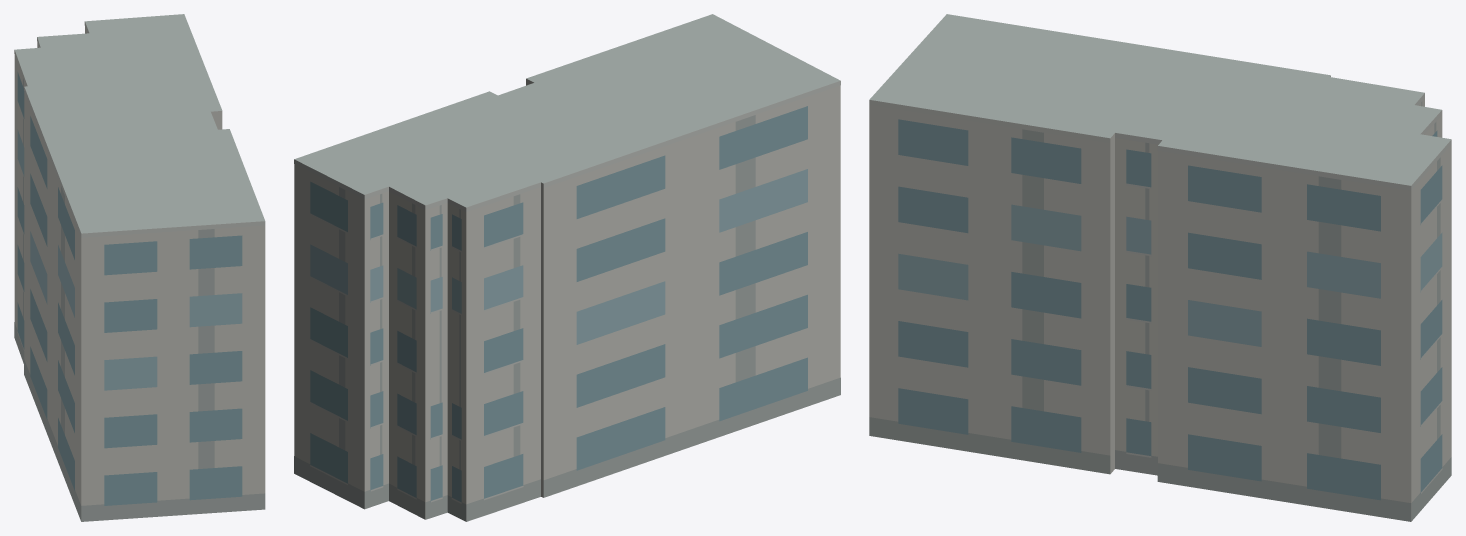
The model's file is survey-upis-32587359.glb.
3 renders of one model, left to right at view 1: azimuth 30°, elevation 25°; view 2: azimuth 150°, elevation 25°; view 3: azimuth 270°, elevation 25°, orthographic. The views are drawn at different scales.
Visible parts, largest first — view 1: survey-upis-32587359.tmp; view 2: survey-upis-32587359.tmp; view 3: survey-upis-32587359.tmp.
Boxes of the visible parts, box(x1,y1,x2,y2) form: survey-upis-32587359.tmp: box(14, 14, 265, 521); survey-upis-32587359.tmp: box(294, 14, 840, 521); survey-upis-32587359.tmp: box(869, 14, 1451, 521).
Bounding box in the file's own units: 17.67 × 16.1 × 25.3.
